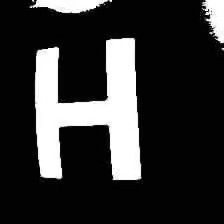LTR_H: (29, 40, 143, 183)
